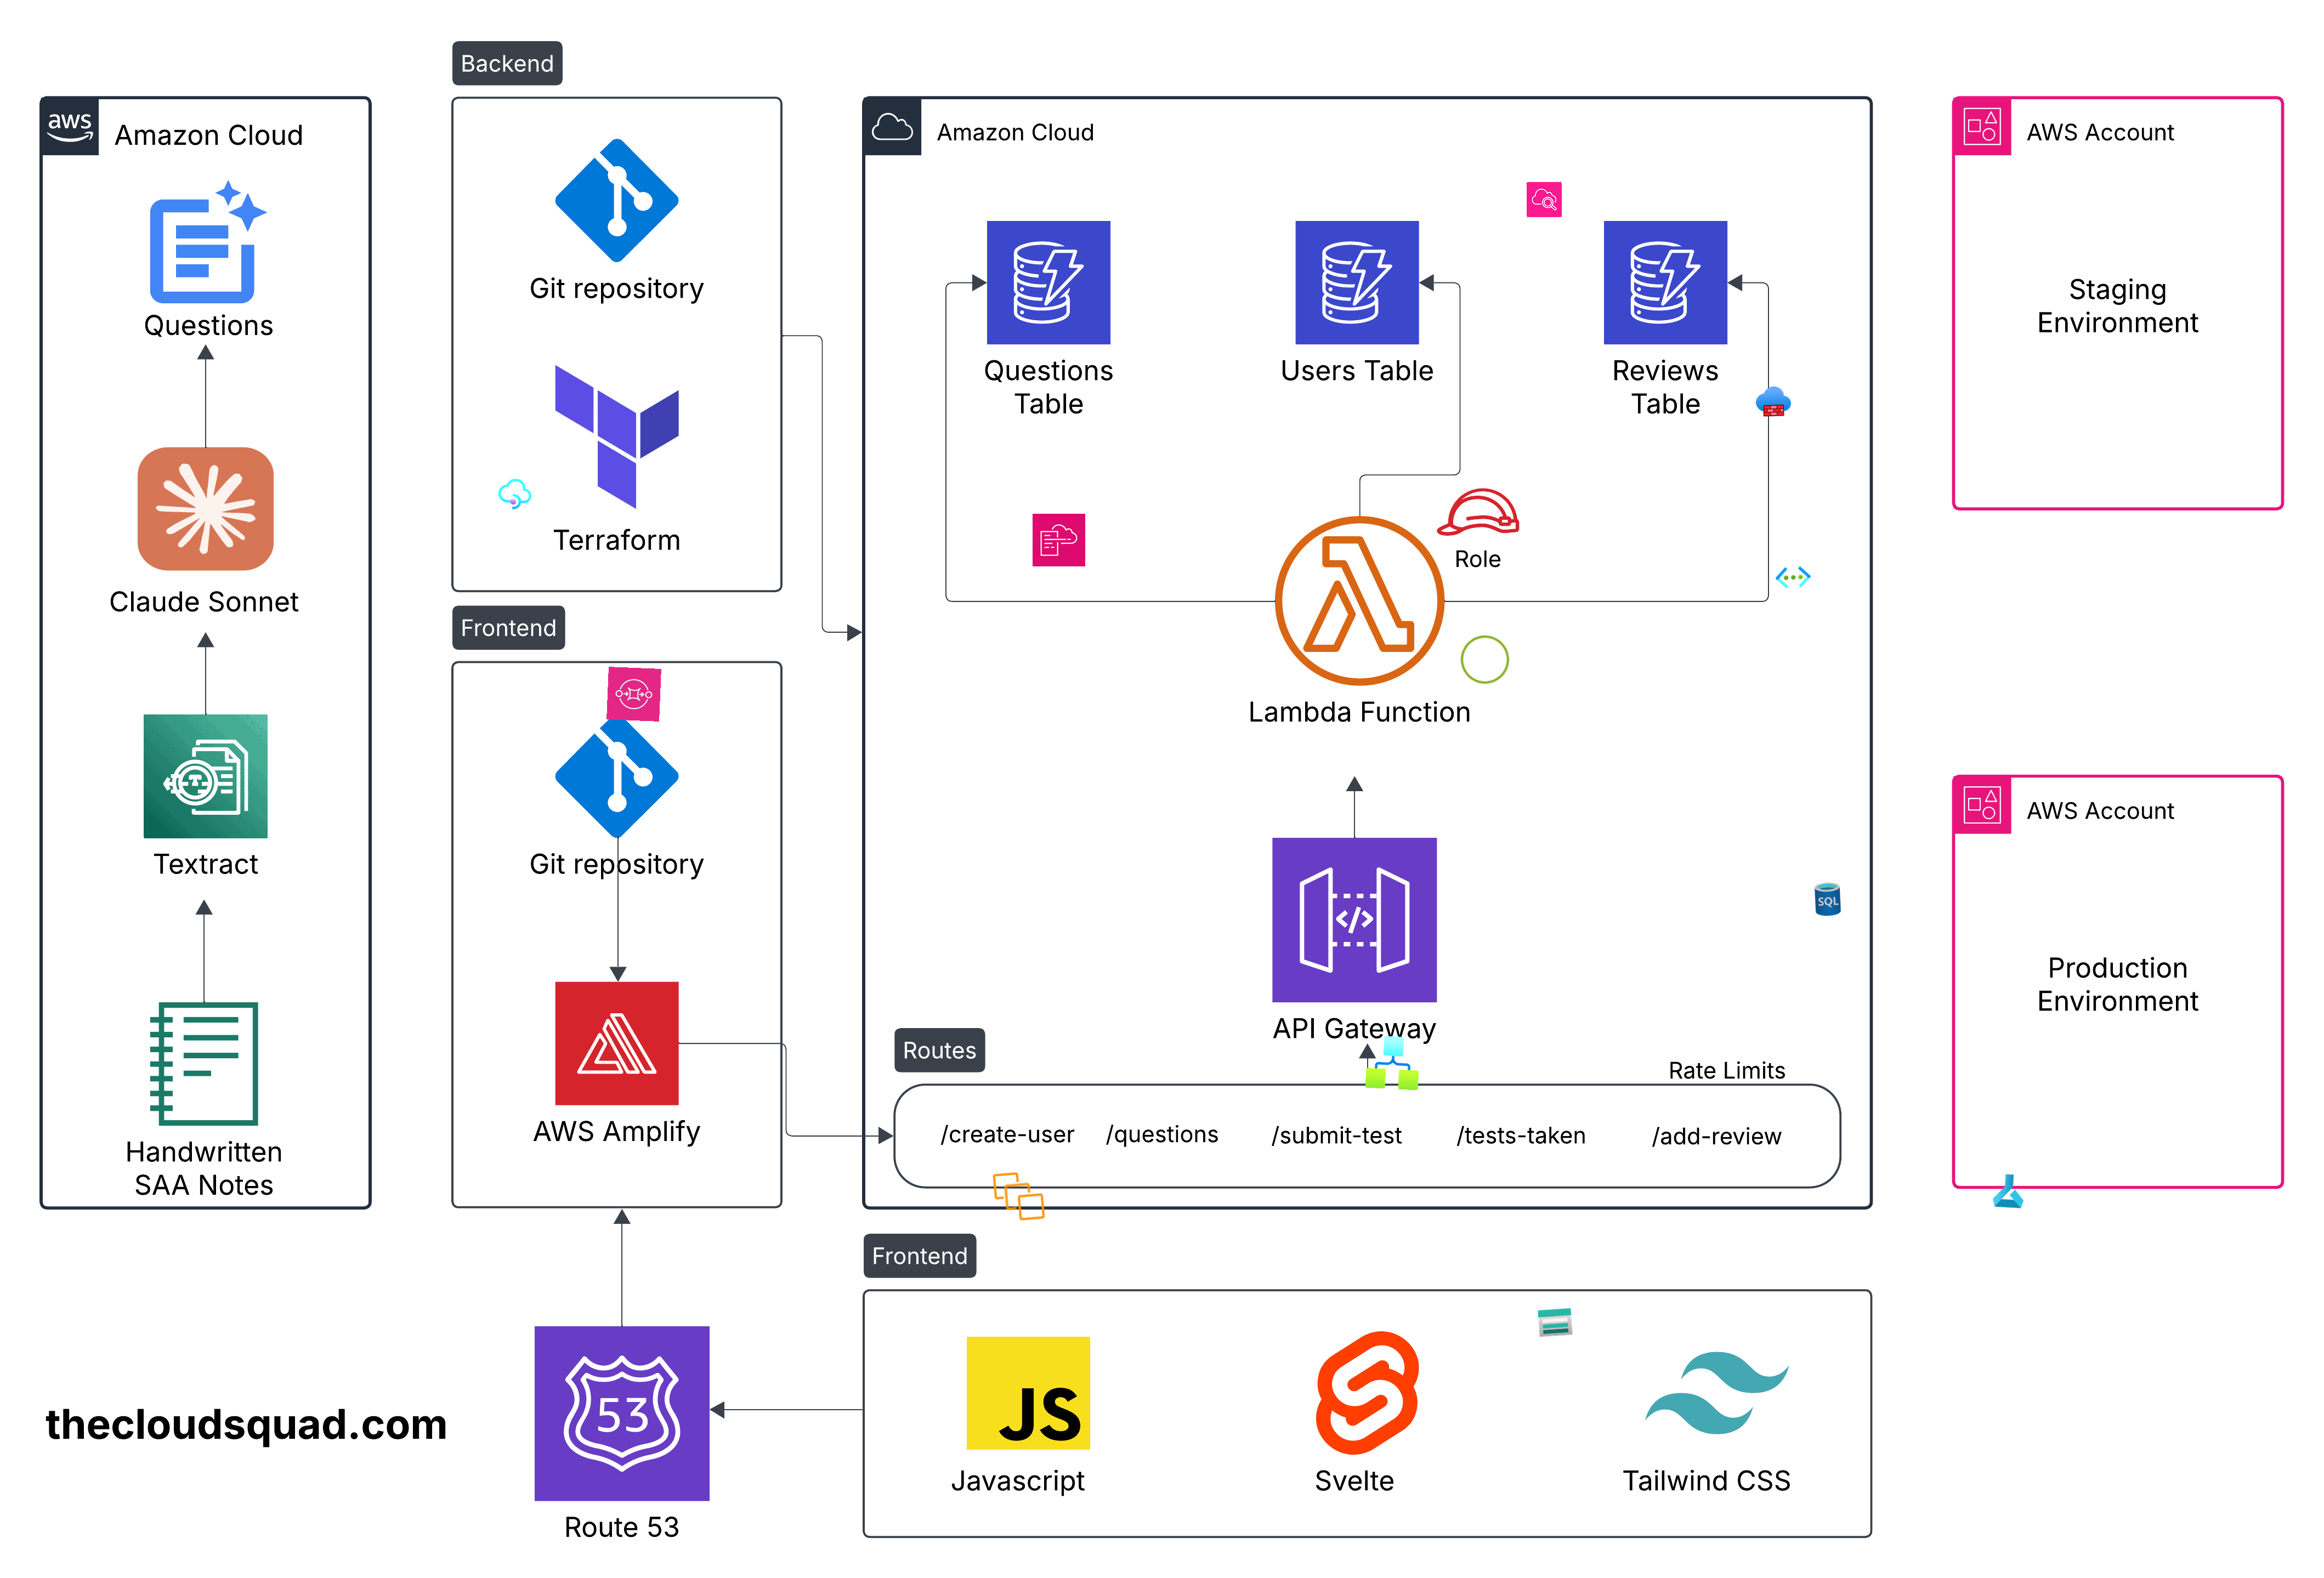aws_amazon_cloudwatch: (1526, 181, 1562, 218)
aws_amazon_simple_queue_service: (606, 667, 662, 722)
aws_cloudformation: (1032, 512, 1086, 567)
aws_ec2_instances: (991, 1168, 1048, 1226)
aws_simple_storage_service_object: (1456, 630, 1514, 689)
azure_api_management_services: (496, 476, 533, 512)
azure_firewalls: (1755, 384, 1792, 419)
azure_logic_apps: (1364, 1034, 1421, 1090)
azure_machine_learning: (1989, 1173, 2026, 1210)
azure_sql_database: (1810, 881, 1847, 918)
azure_storage_accounts: (1535, 1303, 1574, 1342)
azure_virtual_networks: (1775, 558, 1812, 595)
